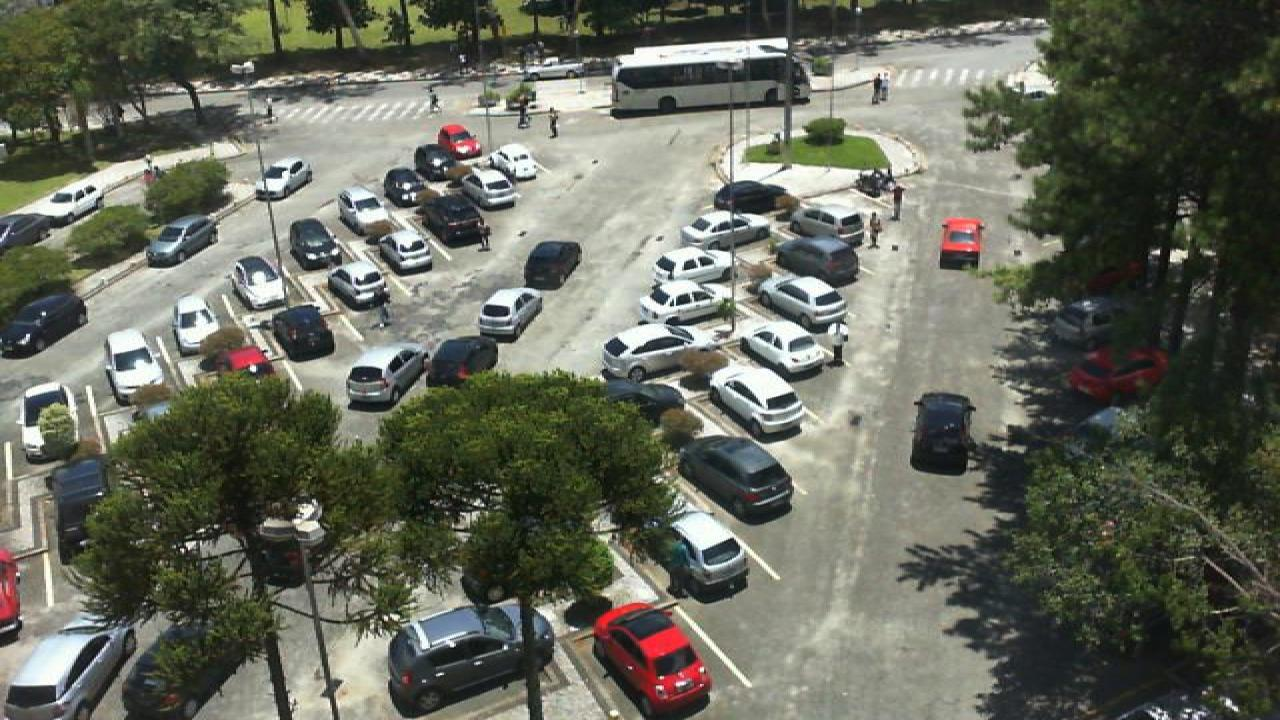Car: (384, 603, 546, 715), (0, 614, 136, 720), (590, 603, 712, 720), (118, 619, 252, 720), (678, 433, 794, 524), (652, 510, 752, 600), (706, 367, 808, 439), (602, 322, 712, 381), (1062, 344, 1168, 405), (738, 318, 834, 380), (2, 292, 88, 358), (48, 458, 110, 546), (912, 390, 976, 475), (346, 344, 430, 408), (758, 274, 850, 330), (18, 382, 78, 464), (774, 235, 860, 287), (640, 282, 732, 328), (602, 376, 686, 426), (426, 335, 498, 389), (776, 204, 864, 248), (144, 214, 218, 266), (678, 210, 770, 250), (106, 328, 158, 398), (478, 287, 544, 342), (418, 195, 488, 246), (1050, 298, 1120, 348), (648, 247, 734, 287), (274, 305, 334, 361), (30, 183, 106, 224), (328, 260, 390, 309), (232, 256, 288, 310), (288, 216, 344, 270), (336, 183, 392, 235), (714, 180, 796, 215), (524, 240, 582, 289), (174, 297, 222, 355), (378, 225, 434, 273), (938, 218, 986, 270), (256, 156, 314, 198), (462, 167, 518, 208), (218, 346, 276, 382), (414, 143, 464, 182), (0, 212, 54, 248), (382, 169, 432, 207), (492, 144, 540, 180), (436, 122, 484, 158)
